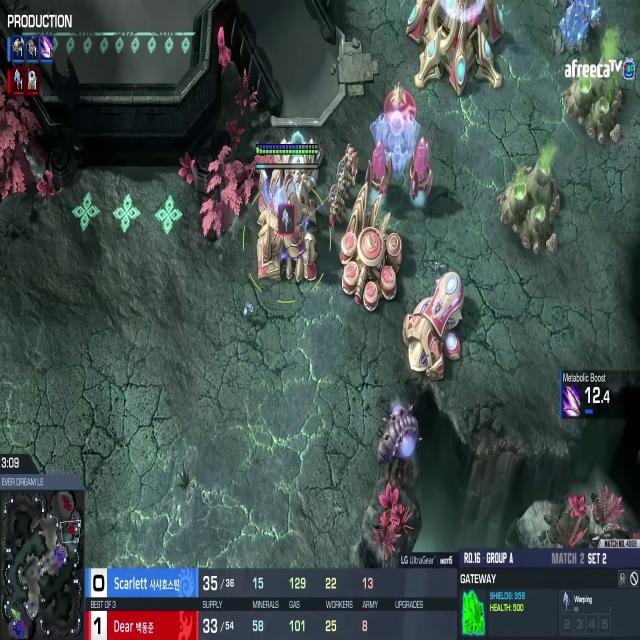adept: (326, 187, 348, 236), (332, 152, 351, 200)
overlord: (374, 388, 425, 492)
probe: (385, 72, 410, 117)
zealot: (345, 140, 360, 185)
